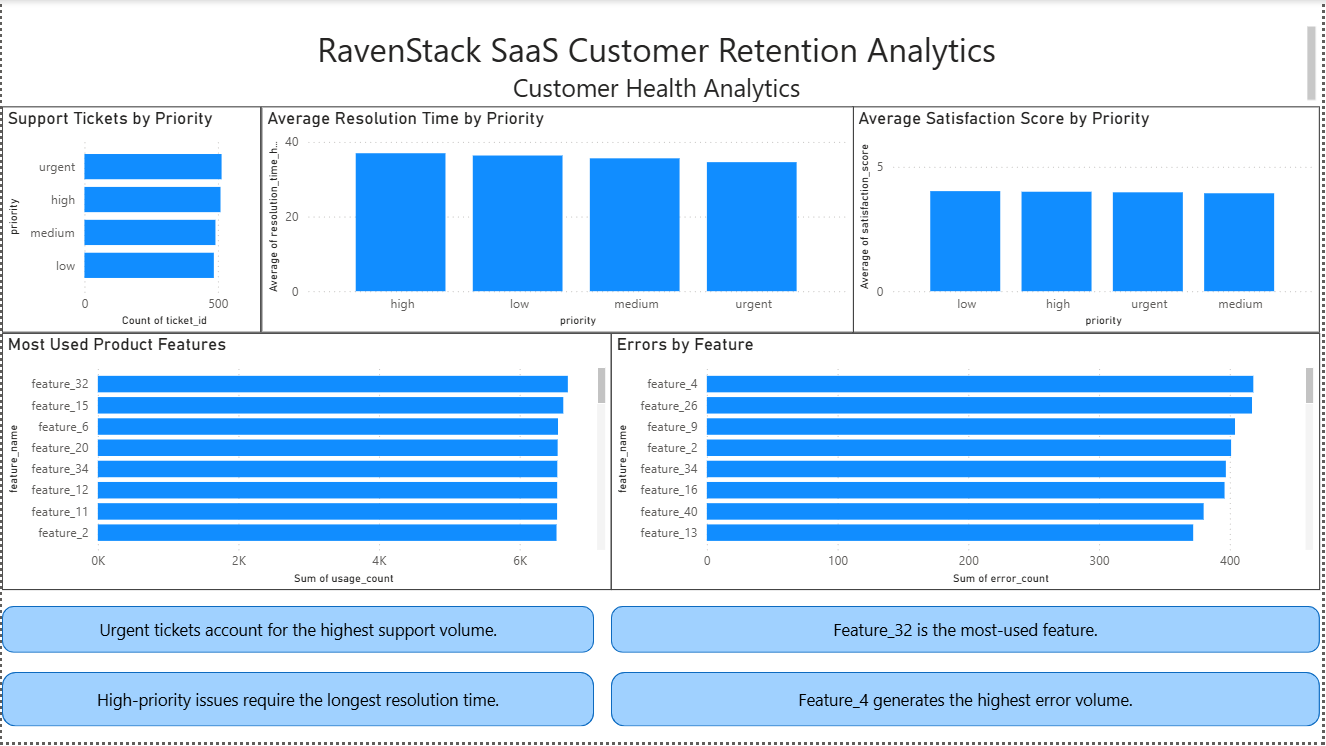

What the dashboard file says about the page in this screenshot:
{"tool":"powerbi","page":{"name":"Page 2","canvas":[1280,720],"ordinal":1},"visuals":[{"type":"textbox","box":[0,20.8,1279.4,83.2],"z":0},{"type":"clusteredBarChart","title":"Support Tickets by Priority","fields":{"Category":["ravenstack_support_tickets.priority"],"Y":["CountNonNull(ravenstack_support_tickets.ticket_id)"]},"box":[0,103.9,251.3,219.2],"z":1},{"type":"clusteredColumnChart","title":"Average Satisfaction Score by Priority","fields":{"Category":["ravenstack_support_tickets.priority"],"Y":["Avg(ravenstack_support_tickets.satisfaction_score)"]},"box":[825.8,103.9,453.5,219.2],"z":2},{"type":"clusteredColumnChart","title":"Average Resolution Time by Priority","fields":{"Category":["ravenstack_support_tickets.priority"],"Y":["Avg(ravenstack_support_tickets.resolution_time_hours)"]},"box":[251.3,103.9,574.5,219.2],"z":3},{"type":"clusteredBarChart","title":"Most Used Product Features","fields":{"Category":["ravenstack_feature_usage.feature_name"],"Y":["Sum(ravenstack_feature_usage.usage_count)"]},"box":[0,323.2,591.5,249.5],"z":4},{"type":"clusteredBarChart","title":"Errors by Feature","fields":{"Category":["ravenstack_feature_usage.feature_name"],"Y":["Sum(ravenstack_feature_usage.error_count)"]},"box":[591.5,323.2,687.9,249.5],"z":5},{"type":"shape","box":[0,587.7,574.5,45.4],"z":6},{"type":"shape","box":[0,652,574.5,52.9],"z":7},{"type":"shape","box":[591.5,587.7,687.9,45.4],"z":8},{"type":"shape","box":[591.5,652,687.9,52.9],"z":9}]}

Visuals, with their boxes in screenshot pixels (x1, y1, x2, y2), scaled from the page's 1280x720 canvas onto the 1326x746 screenshot:
textbox: rect(0, 22, 1325, 108)
"Support Tickets by Priority" clusteredBarChart: rect(0, 108, 260, 335)
"Average Satisfaction Score by Priority" clusteredColumnChart: rect(855, 108, 1325, 335)
"Average Resolution Time by Priority" clusteredColumnChart: rect(260, 108, 855, 335)
"Most Used Product Features" clusteredBarChart: rect(0, 335, 613, 593)
"Errors by Feature" clusteredBarChart: rect(613, 335, 1325, 593)
shape: rect(0, 609, 595, 656)
shape: rect(0, 676, 595, 730)
shape: rect(613, 609, 1325, 656)
shape: rect(613, 676, 1325, 730)
